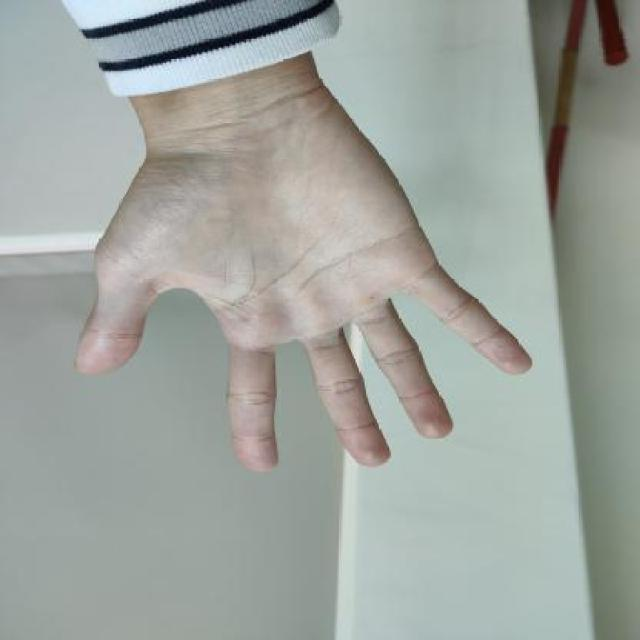bare_hand: (62, 48, 538, 490)
